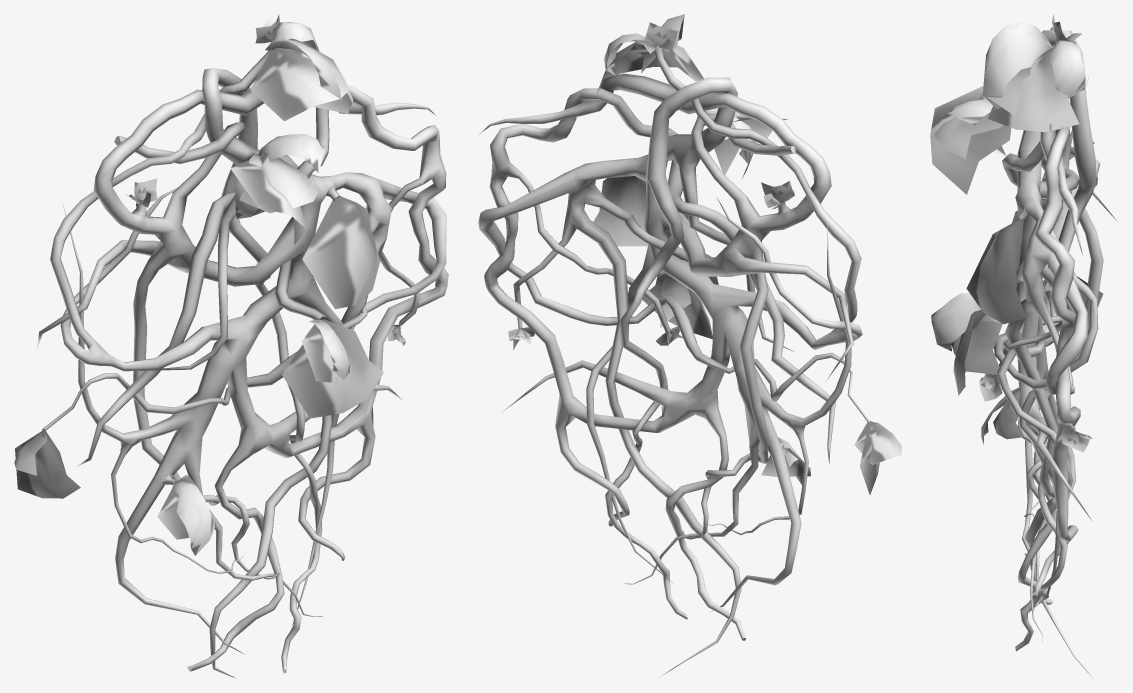
Rendered from Nature_Shield_LOD0.fbx.
The picture shows the model from 3 angles, left to right: view 1: azimuth 30°, elevation 25°; view 2: azimuth 150°, elevation 25°; view 3: azimuth 270°, elevation 25°; orthographic projection. The views are drawn at different scales.
Visible parts, largest first — view 1: Nature_Shield_LOD0; view 2: Nature_Shield_LOD0; view 3: Nature_Shield_LOD0.
Part boxes in pixels (<box>): Nature_Shield_LOD0: <box>14,14,448,678</box>; Nature_Shield_LOD0: <box>478,14,901,676</box>; Nature_Shield_LOD0: <box>930,14,1116,676</box>.
Bounding box in the file's own units: 3.05 × 4.48 × 1.14.
